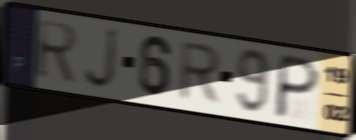6: (137, 35, 173, 99)
9: (235, 47, 272, 117)
J: (82, 26, 120, 93)
P: (272, 51, 323, 122)
R: (176, 40, 225, 108), (34, 17, 81, 85)
